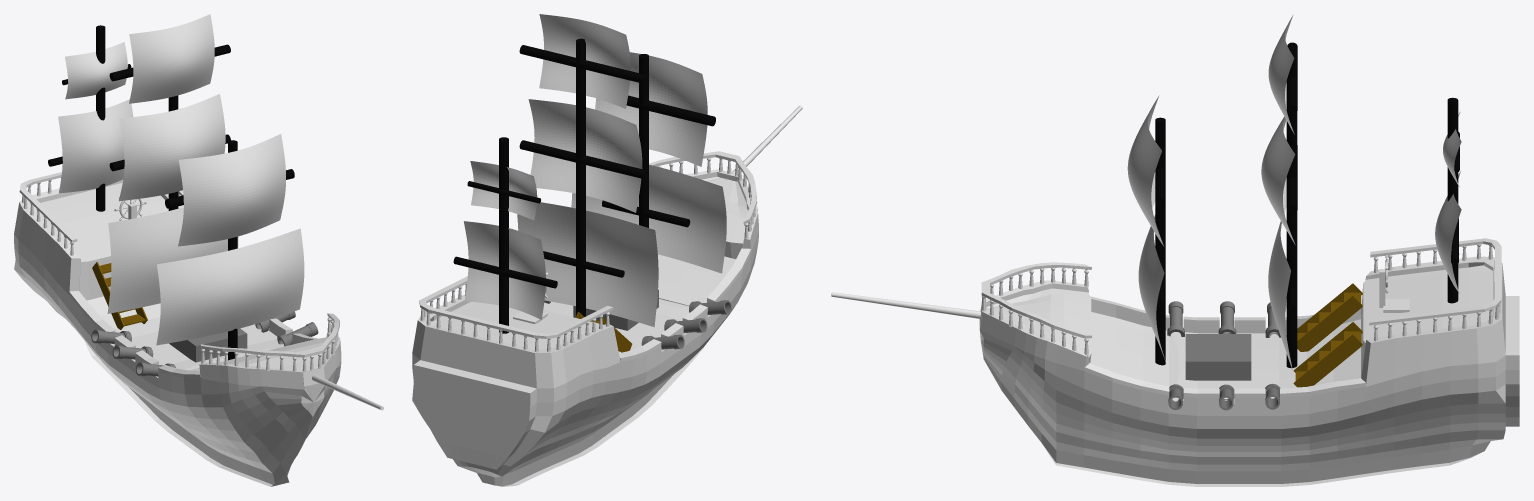
File: ship2.fbx
3 renders of one model, left to right at view 1: azimuth 30°, elevation 25°; view 2: azimuth 150°, elevation 25°; view 3: azimuth 270°, elevation 25°, orthographic. The views are drawn at different scales.
Visible parts, largest first — view 1: Cube, Plane, Plane.003, Plane.001, Plane.002, Plane.005, Plane.004, Plane.006, Cube.019, Cube.017, Cylinder.003, Cube.018 (+6 smaller); view 2: Cube, Plane.002, Plane.001, Plane, Plane.003, Plane.005, Plane.004, Cylinder.001, Plane.006, Cylinder.003, Cube.018, Cylinder.002 (+13 smaller); view 3: Cube, Cube.019, Cylinder.001, Plane.003, Plane.001, Cube.018, Cylinder.002, Plane.002, Plane, Cube.017, Plane.005, Plane.004 (+4 smaller).
Part boxes in pixels (x1=…): Cube: x1=14, y1=179, x2=341, y2=486; Plane: x1=156, y1=228, x2=304, y2=345; Plane.003: x1=178, y1=134, x2=285, y2=246; Plane.001: x1=119, y1=94, x2=225, y2=201; Plane.002: x1=107, y1=207, x2=238, y2=313; Plane.005: x1=129, y1=14, x2=214, y2=103; Plane.004: x1=58, y1=99, x2=133, y2=193; Plane.006: x1=65, y1=42, x2=127, y2=99; Cube.019: x1=169, y1=328, x2=247, y2=362; Cube.017: x1=200, y1=313, x2=339, y2=357; Cylinder.003: x1=96, y1=25, x2=105, y2=211; Cube.018: x1=19, y1=172, x2=183, y2=242; Cube: x1=412, y1=169, x2=758, y2=486; Plane.002: x1=517, y1=202, x2=658, y2=327; Plane.001: x1=528, y1=99, x2=642, y2=212; Plane: x1=571, y1=164, x2=726, y2=273; Plane.003: x1=595, y1=52, x2=707, y2=166; Plane.005: x1=539, y1=14, x2=630, y2=108; Plane.004: x1=463, y1=221, x2=545, y2=319; Cylinder.001: x1=576, y1=38, x2=585, y2=316; Plane.006: x1=470, y1=161, x2=537, y2=220; Cylinder.003: x1=499, y1=137, x2=508, y2=333; Cube.018: x1=419, y1=276, x2=613, y2=338; Cylinder.002: x1=639, y1=54, x2=648, y2=227; Cube: x1=979, y1=256, x2=1519, y2=486; Cube.019: x1=1185, y1=334, x2=1251, y2=380; Cylinder.001: x1=1286, y1=54, x2=1297, y2=368; Plane.003: x1=1127, y1=95, x2=1163, y2=246; Plane.001: x1=1261, y1=116, x2=1295, y2=244; Cube.018: x1=1369, y1=238, x2=1501, y2=325; Cylinder.002: x1=1155, y1=117, x2=1165, y2=365; Plane.002: x1=1268, y1=221, x2=1292, y2=370; Plane: x1=1138, y1=215, x2=1165, y2=361; Cube.017: x1=981, y1=262, x2=1091, y2=338; Plane.005: x1=1268, y1=15, x2=1294, y2=134; Plane.004: x1=1435, y1=171, x2=1461, y2=293.
Bounding box in the file's own units: 1260 × 2710 × 3811.
